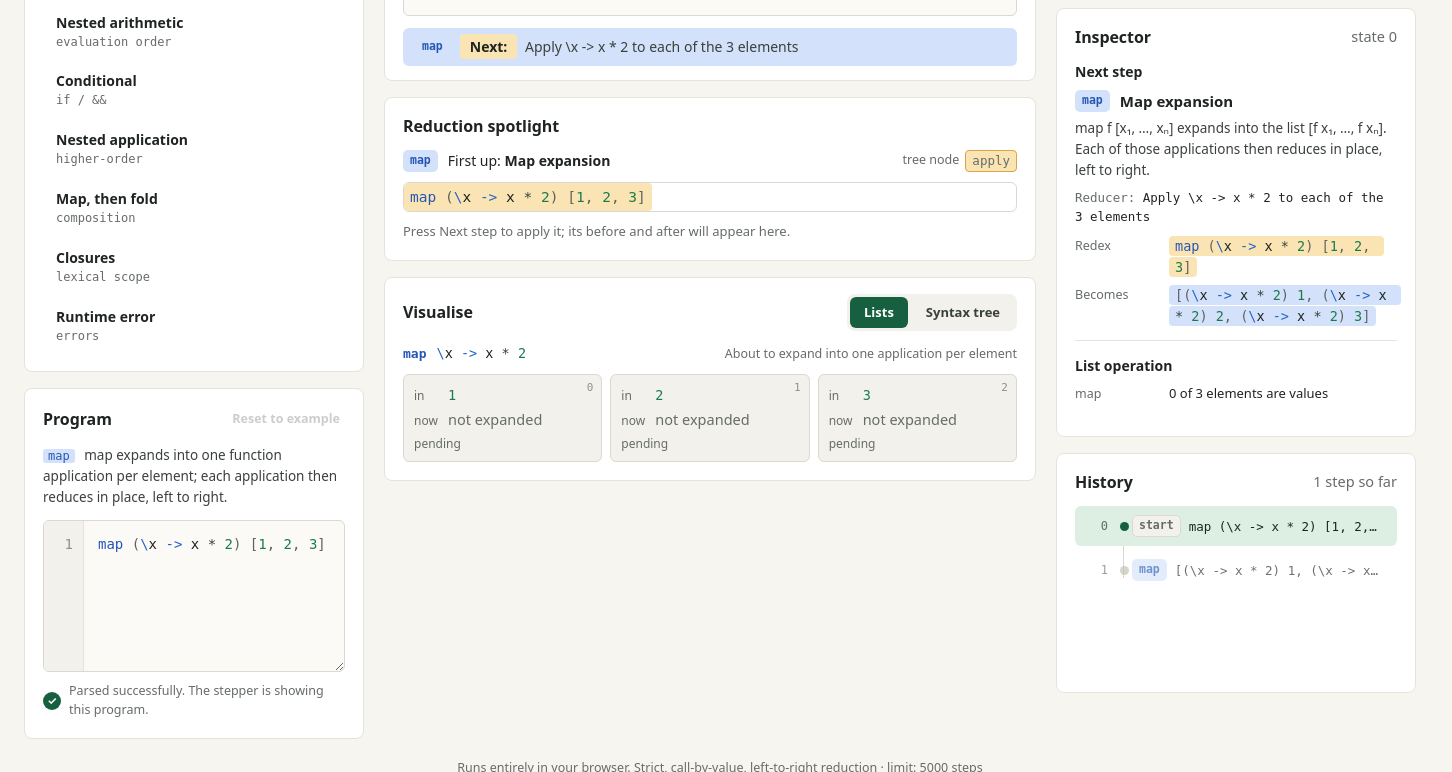
Scenario: invalid and extreme input › a divergent program stops at the step limit with an understandable message
(page scrolled)
Replace the text in the text box named "Program source" with "(\\x -> x x) (\\x -> x x)" at [214, 596], box [84,521,344,671]
(page scrolled)
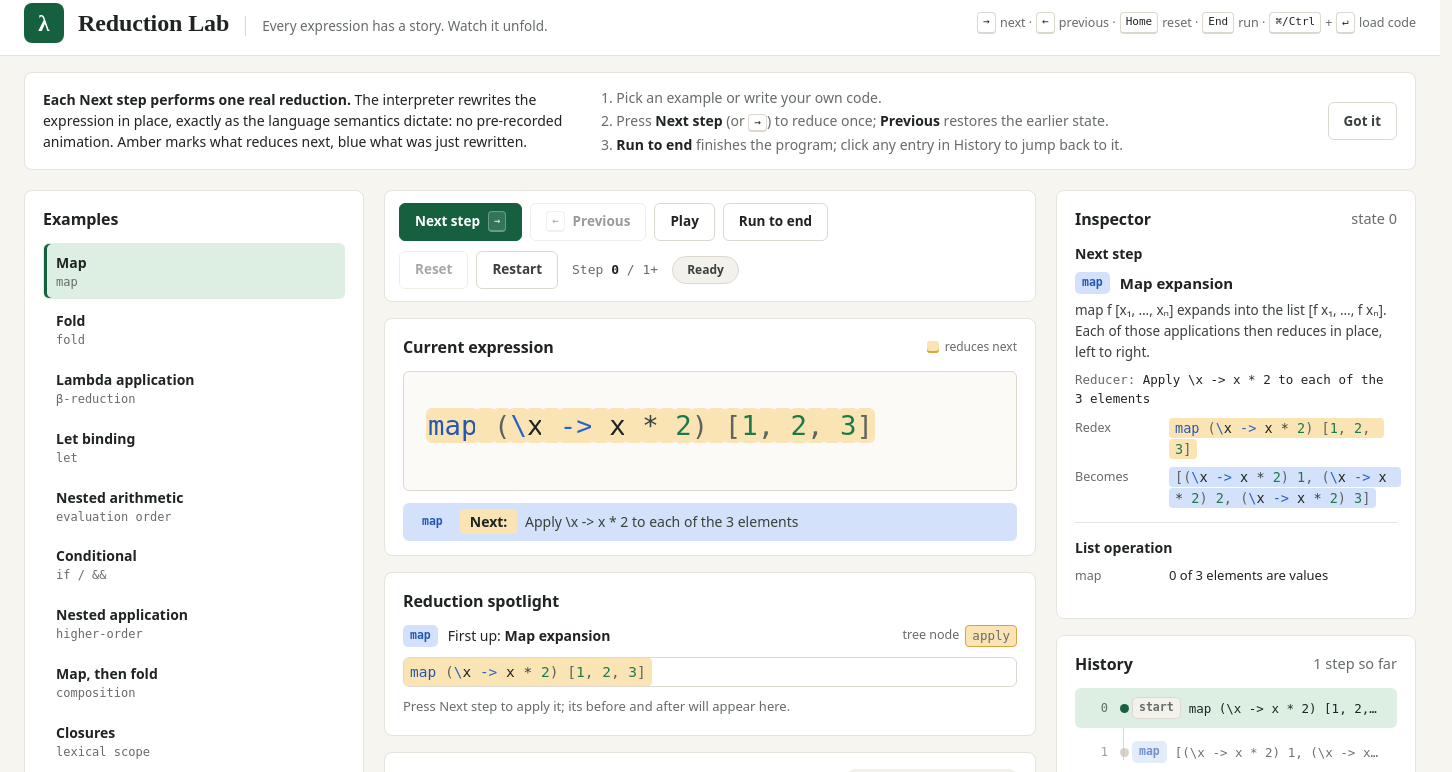
Click the button "Run to end" at [775, 222], box [723,202,828,240]
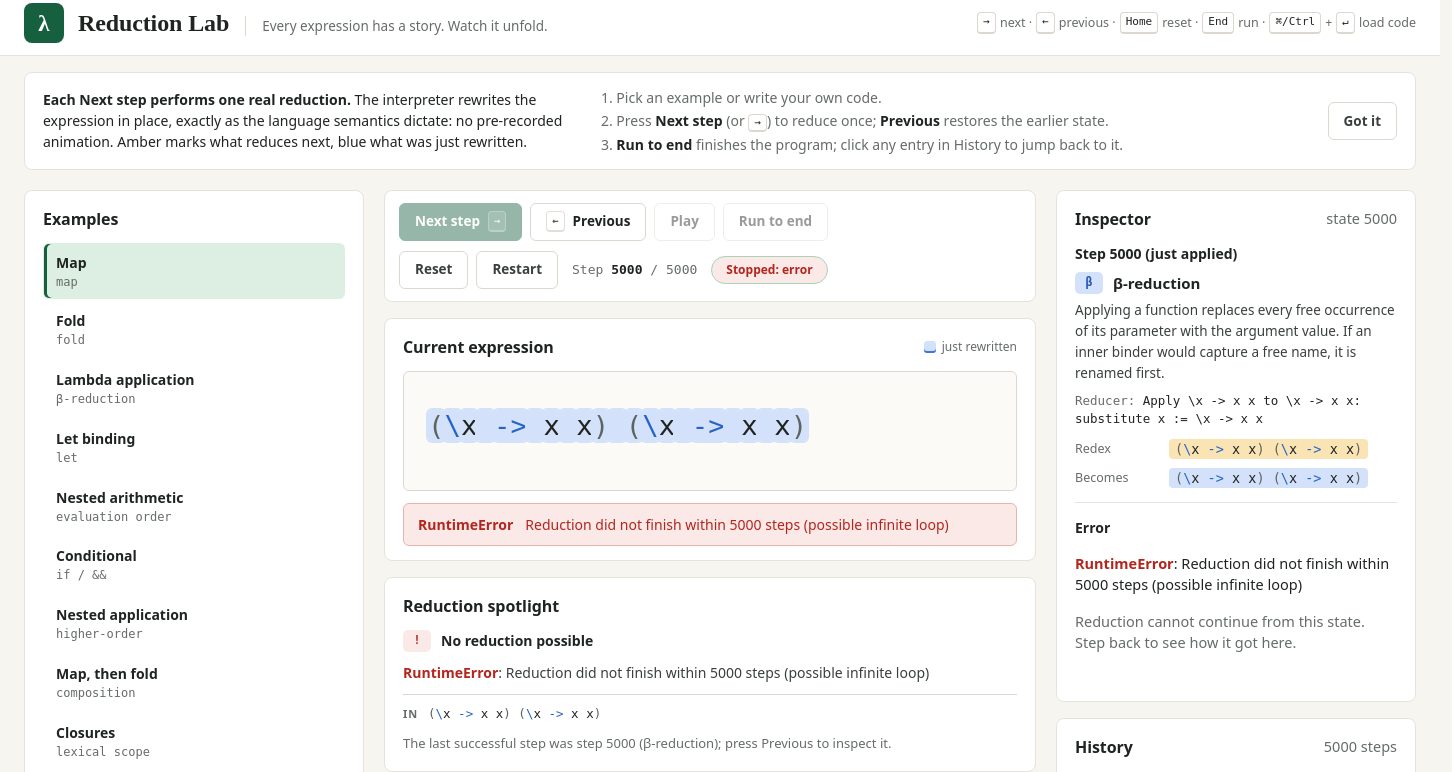
Now the message "Stopped: error" is shown, box [711,256,828,284]
Now the message that starts with "RuntimeError" shows "did not finish within 5000 steps (possible infinite loop)", box [525,514,949,534]
Now the button "Next step →" is disabled, box [399,202,522,240]
